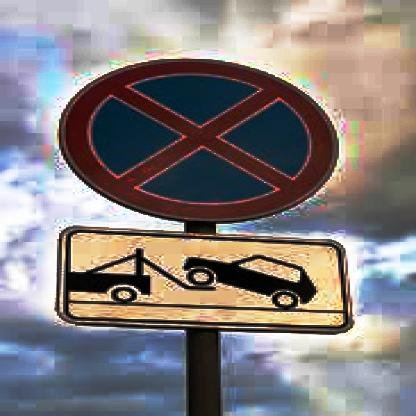No stopping: (61, 51, 331, 227)
